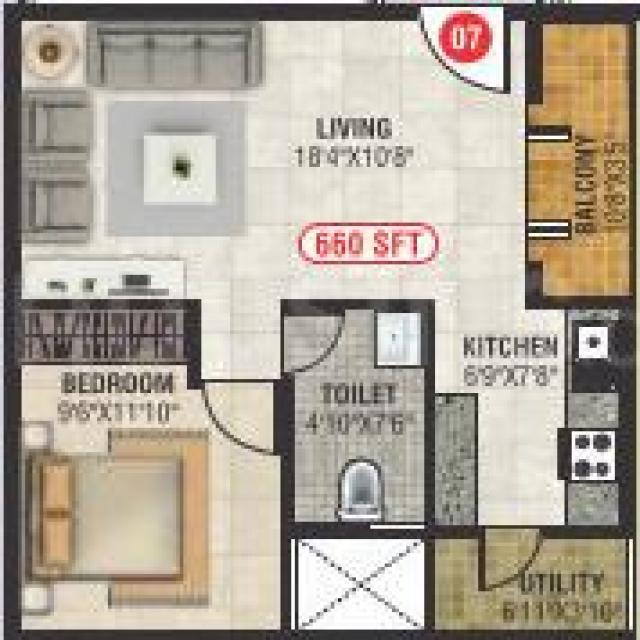Balcony-Sitout: (530, 21, 630, 295)
Bedroom: (20, 309, 280, 629)
Enterance-Foyer: (416, 2, 509, 96)
Kitchen: (434, 308, 618, 526)
Living: (22, 20, 526, 299)
Toilet: (290, 312, 425, 523)
Utility: (435, 529, 626, 629)
